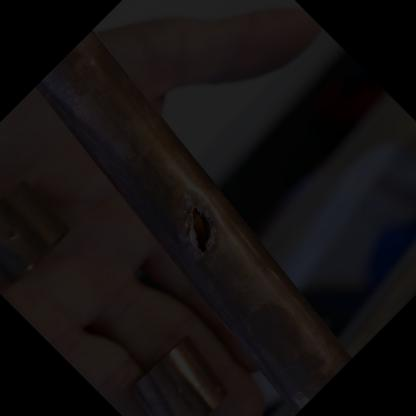burst: (174, 190, 228, 264)
